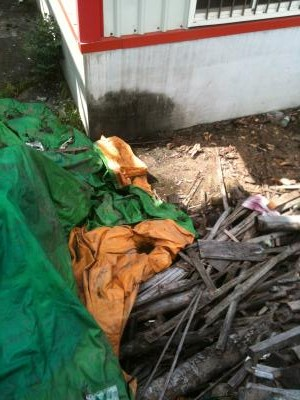plastic_bag: (1, 101, 191, 362)
